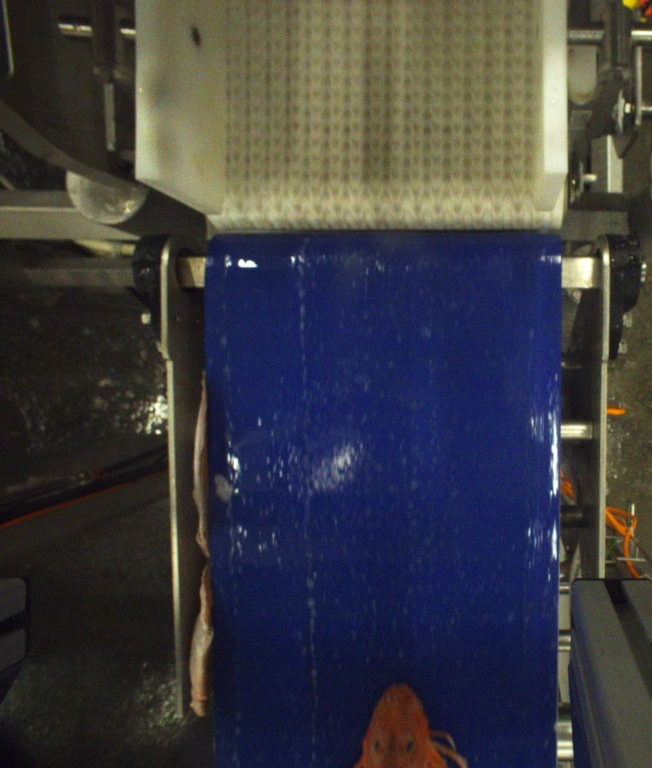GUU: (353, 683, 460, 768)
